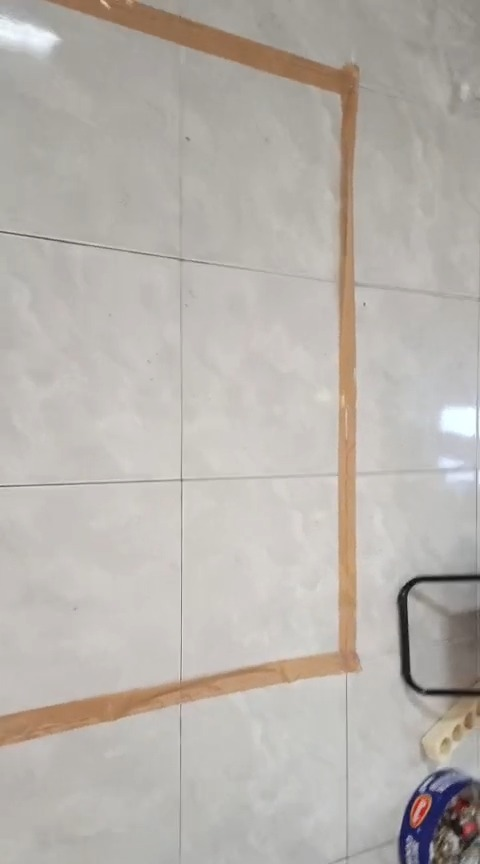floor marking: (0, 0, 360, 745)
